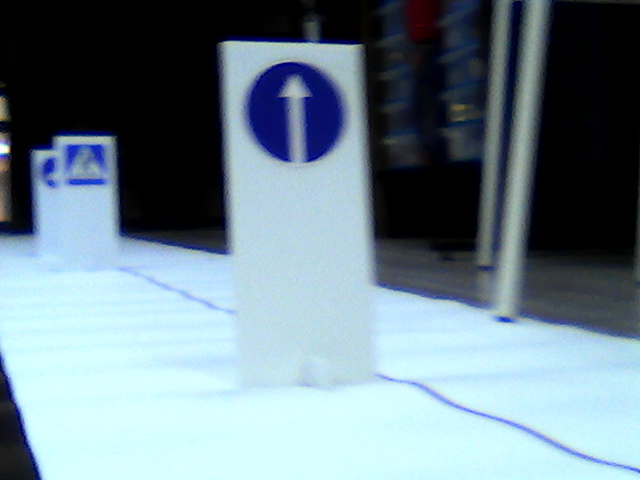forw: (245, 59, 350, 167)
pesh: (65, 142, 106, 186)
